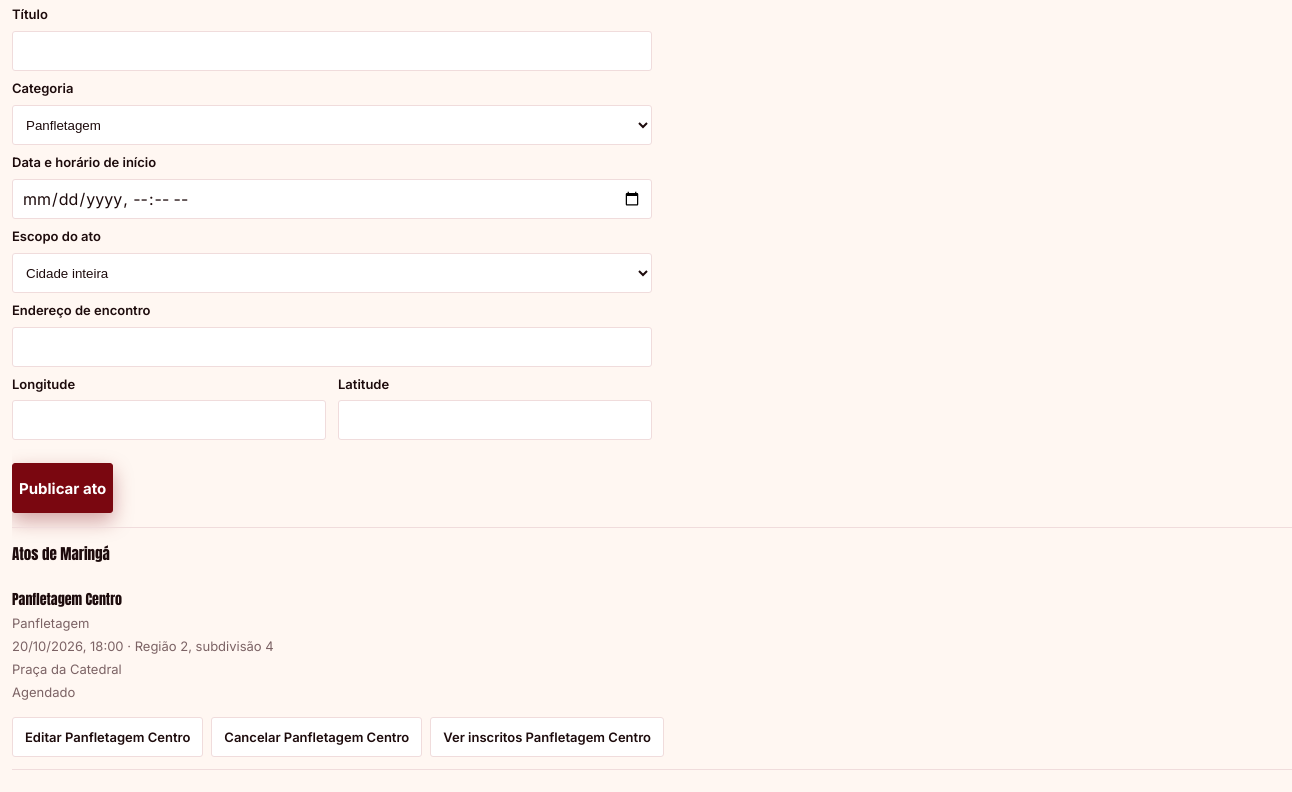
ActManagement › edits an existing act without changing its stable ID
The image size is (1292, 792).
(page scrolled)
Click the button "Editar Panfletagem Centro": (108, 737) [12,717,203,757]
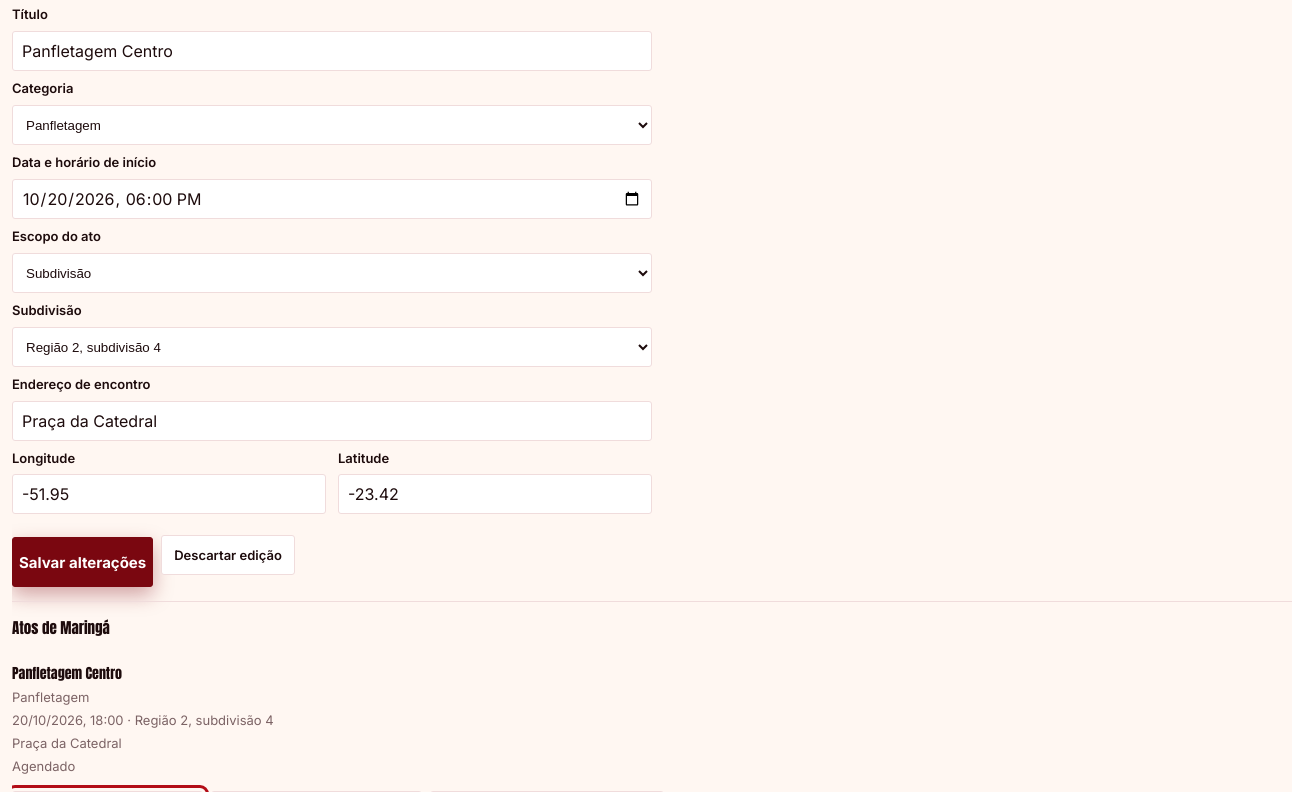
expect the field labelled "Título" holds "Panfletagem Centro": met
Replace the text in the field labelled "Título" with "Panfletagem Atualizada": (332, 51) [12,31,652,71]
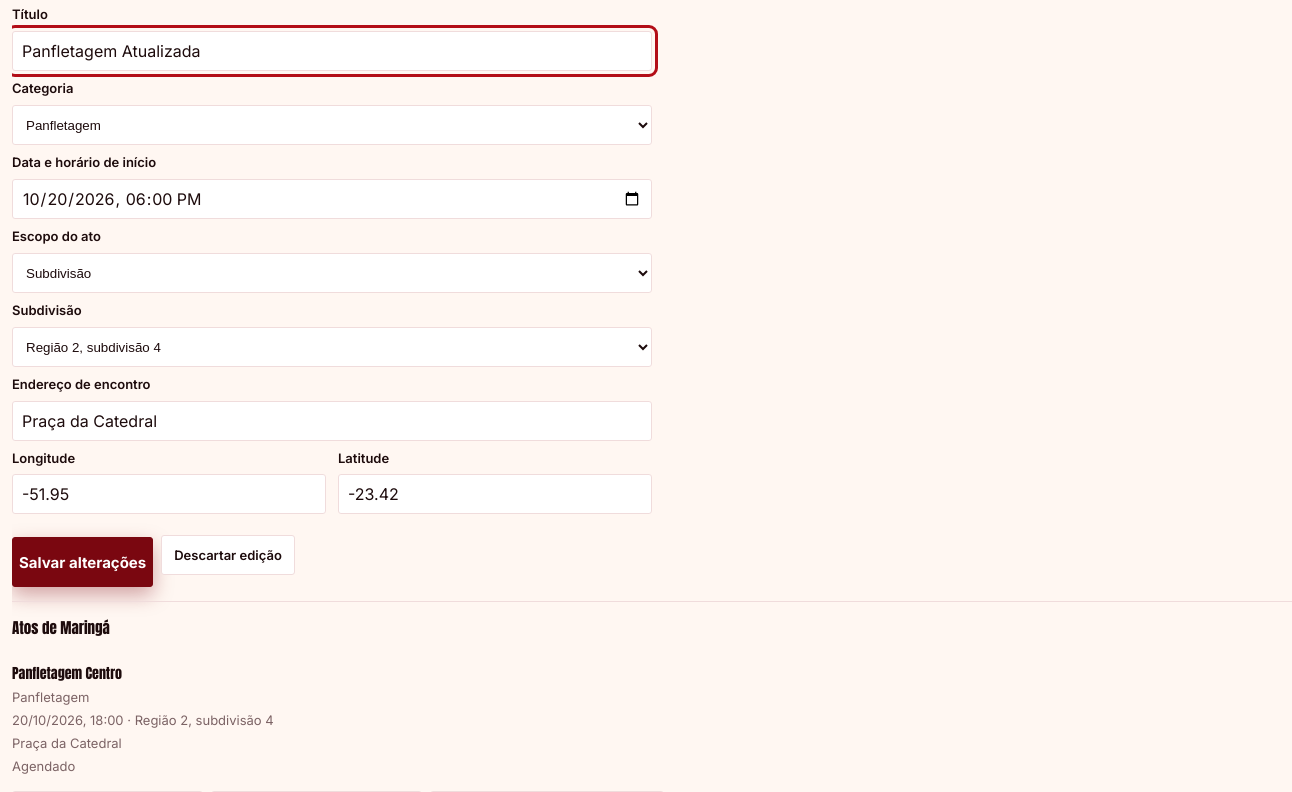
Click the button "Salvar alterações": (83, 562) [12,537,153,587]
(page scrolled)
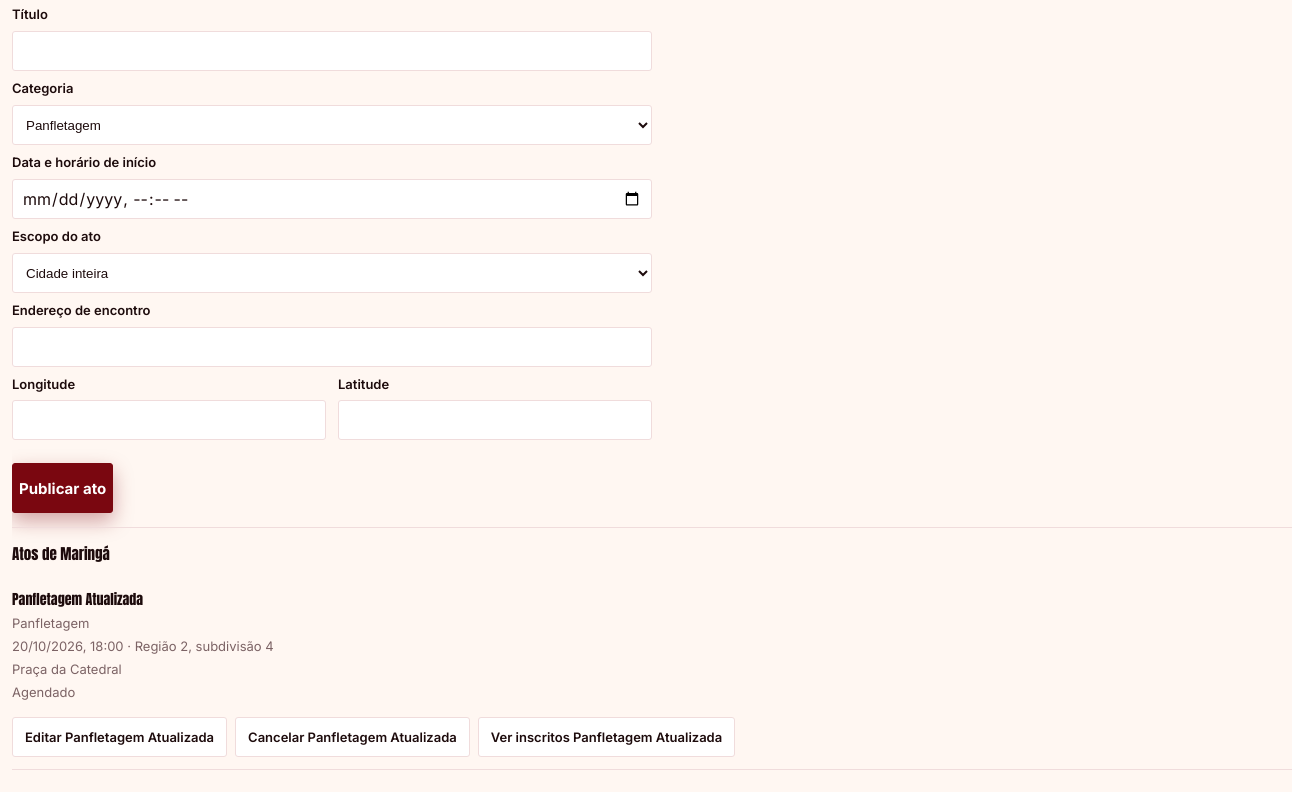
expect the heading "Panfletagem Atualizada" is shown: met, box [12,589,143,610]
